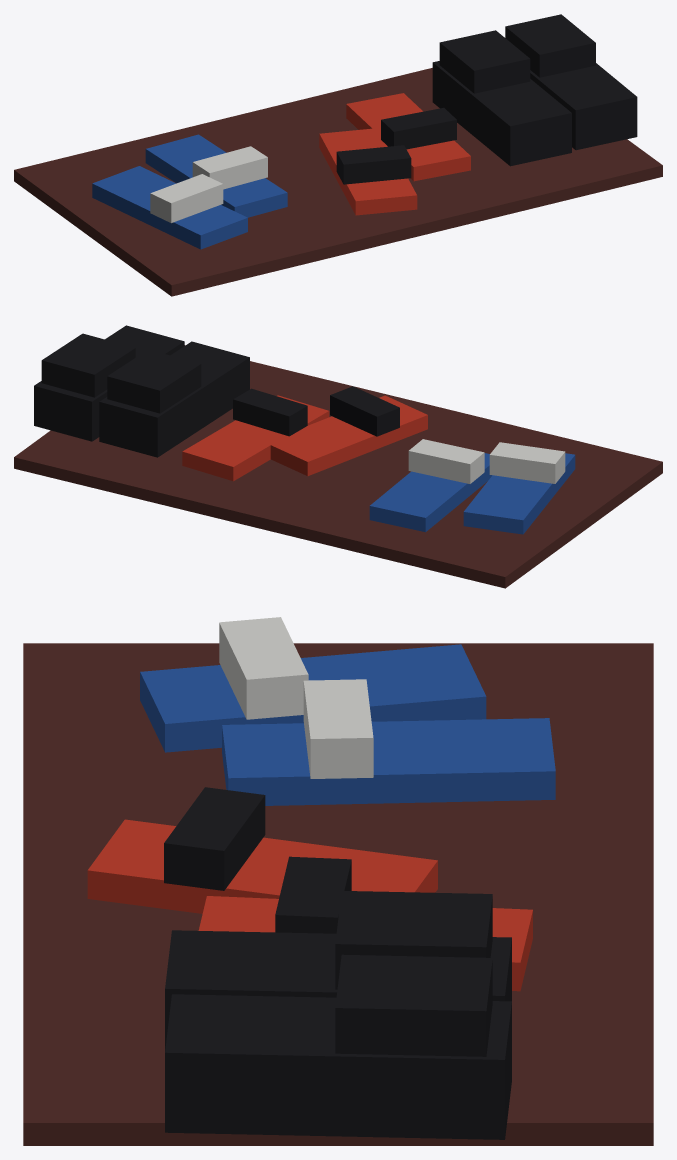
The model's file is prop_slippers.glb.
3 views of the same model, one above another, from view 1: azimuth 30°, elevation 25°; view 2: azimuth 150°, elevation 25°; view 3: azimuth 270°, elevation 25° (orthographic). The views are drawn at different scales.
Visible parts, largest first — view 1: body; view 2: body; view 3: body.
Boxes of the visible parts, x1,y1,x2,y2 form: body: [14, 14, 662, 296]; body: [14, 325, 662, 588]; body: [23, 617, 653, 1145].
Size of the model in its own units: 0.9317 by 0.13 by 0.5.
